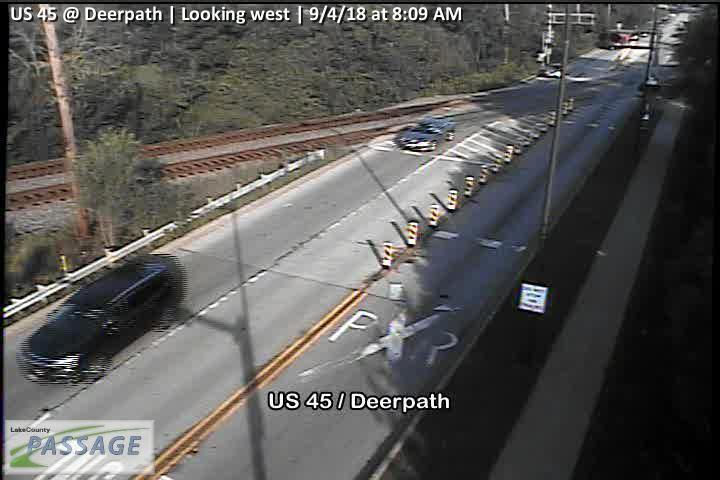SUV: (16, 253, 184, 385)
Sedan: (394, 113, 456, 153)
